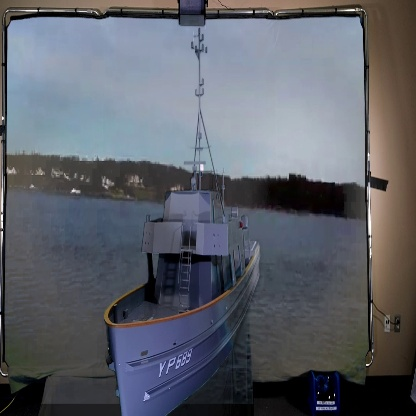YP689: (98, 27, 264, 416)
